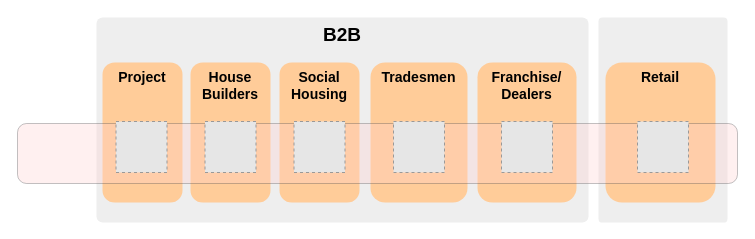
Image size: 755x239. Some labels were removed from this diagram. Grey dashed boxes stand in for pictures. Each missing label, with the box of its shape:
B2C: (598, 17, 727, 222)
Denmark: (16, 122, 738, 184)
